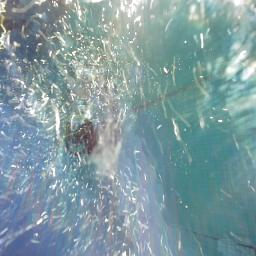Full: (64, 114, 118, 157)
back: (65, 116, 107, 155)
